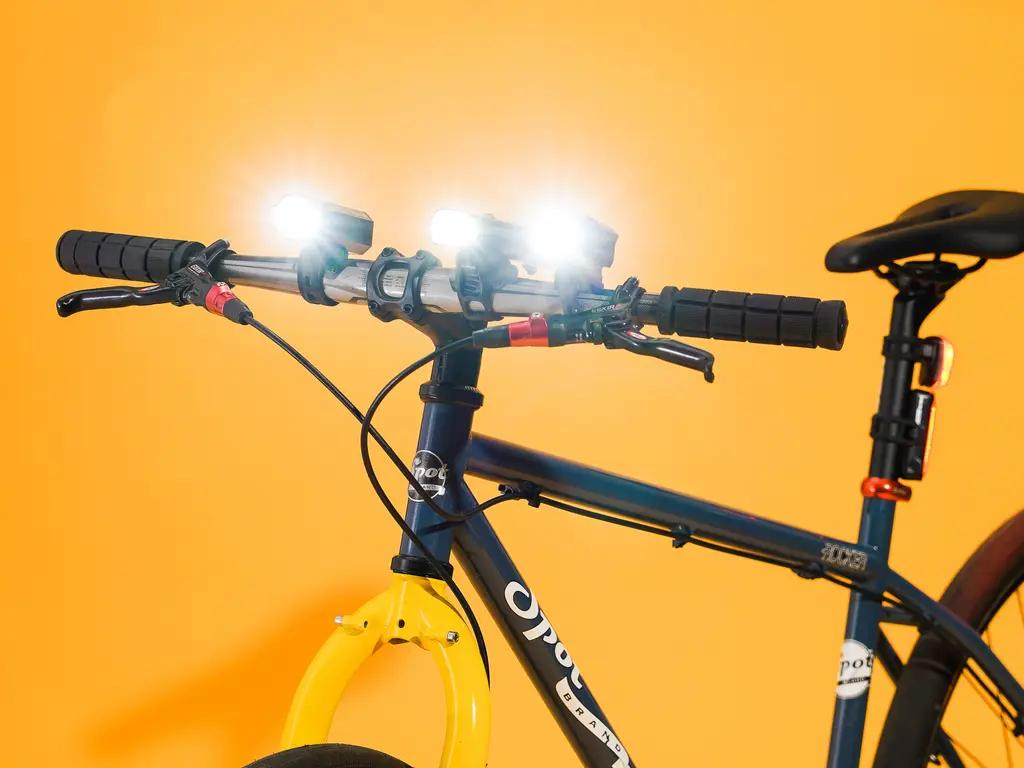bicycle: (44, 185, 1024, 765)
